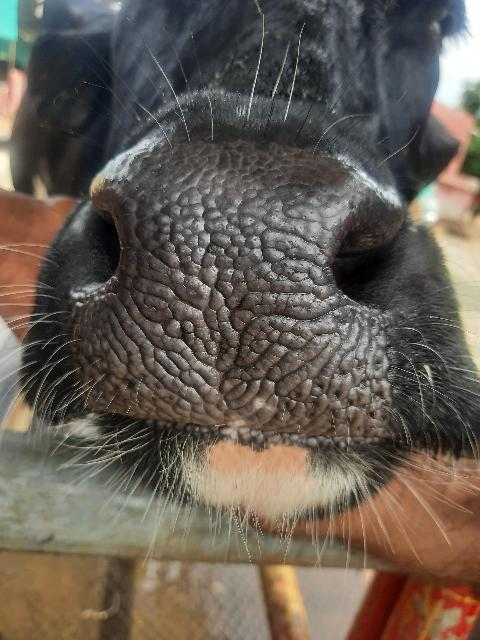Muzzle: (120, 157, 330, 431)
